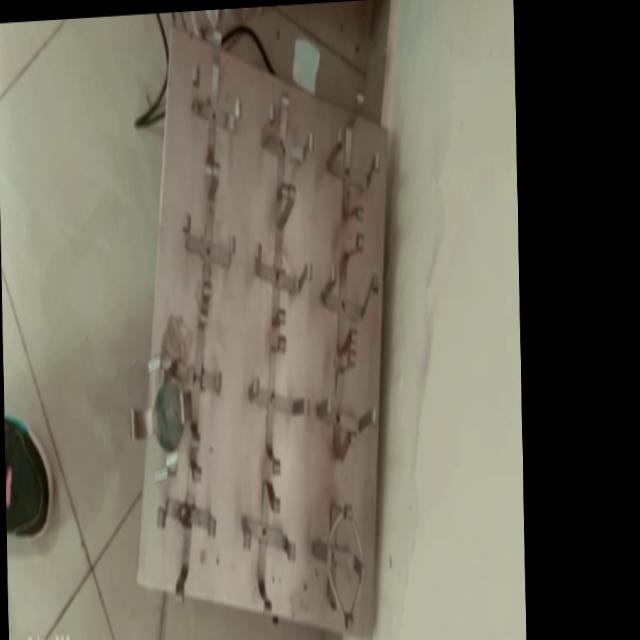Rotary Shaker: (135, 9, 396, 640)
